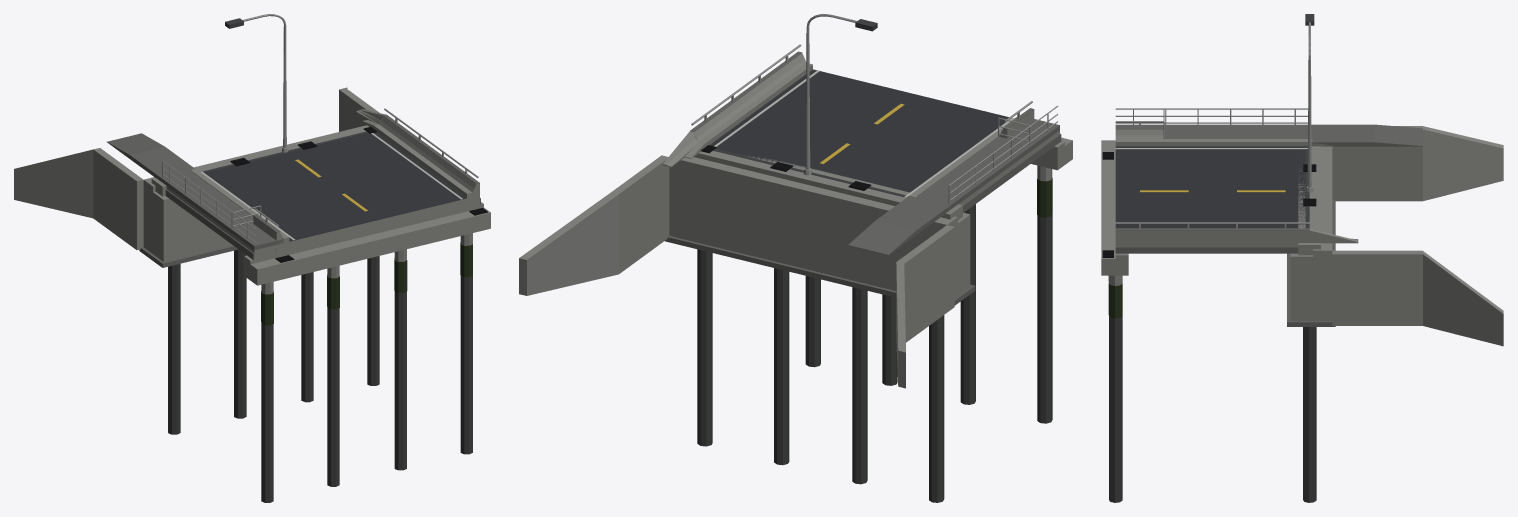
The model's file is trestle_mid.glb.
3 renders of one model, left to right at view 1: azimuth 30°, elevation 25°; view 2: azimuth 150°, elevation 25°; view 3: azimuth 270°, elevation 25°, orthographic. The views are drawn at different scales.
Visible parts, largest first — view 1: bay, landing, abutment, bent, lamp; view 2: abutment, bay, bent, landing, lamp; view 3: abutment, bay, landing, bent, lamp.
Boxes of the visible parts, bbox=[...] form: bay: bbox=[161, 108, 480, 259]; landing: bbox=[233, 196, 490, 502]; abutment: bbox=[14, 87, 385, 267]; bent: bbox=[151, 126, 379, 434]; lamp: bbox=[225, 14, 287, 152]; abutment: bbox=[519, 131, 975, 388]; bay: bbox=[690, 44, 1061, 212]; bent: bbox=[694, 145, 962, 502]; landing: bbox=[805, 101, 1072, 423]; lamp: bbox=[804, 14, 877, 175]; abutment: bbox=[1287, 124, 1503, 346]; bay: bbox=[1115, 108, 1309, 253]; landing: bbox=[1101, 108, 1164, 502]; bent: bbox=[1298, 146, 1320, 502]; lamp: bbox=[1305, 14, 1314, 192].
Bounding box in the file's own units: 24.75 × 28.1 × 24.9.
